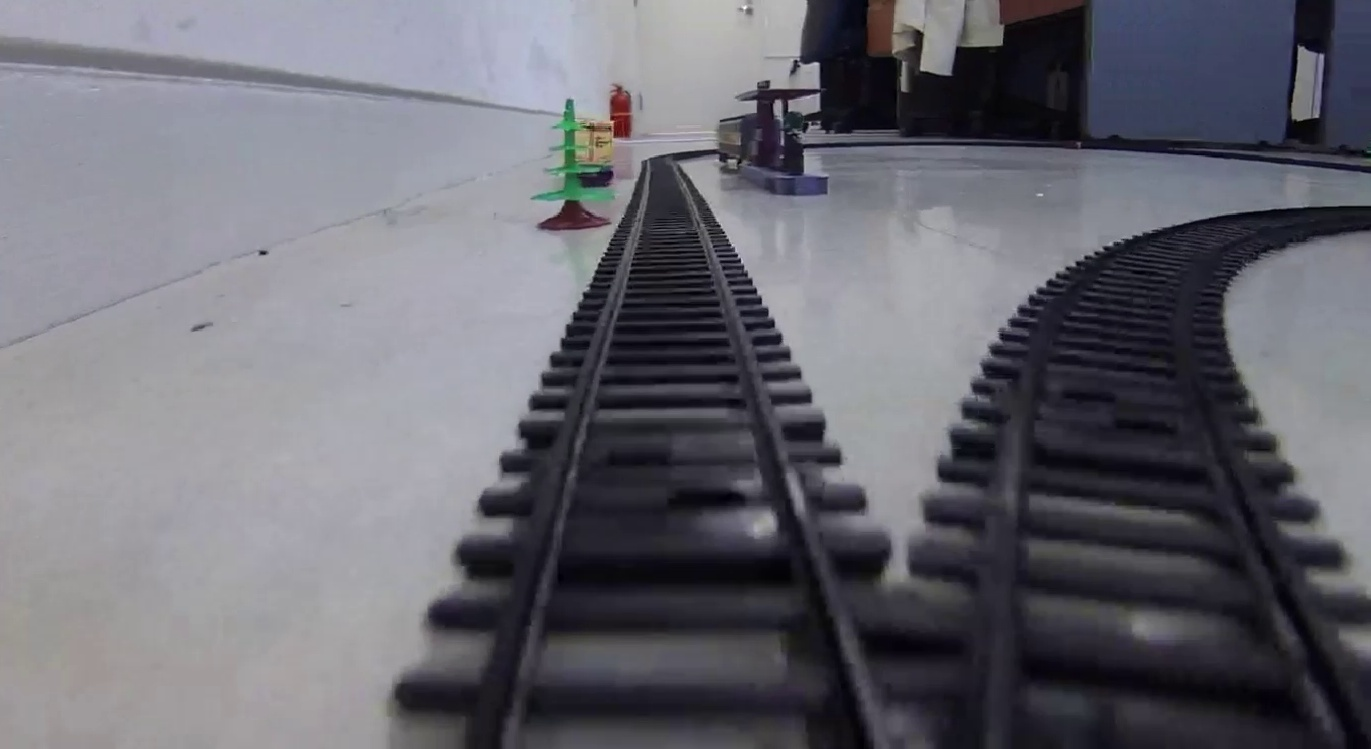tree: (528, 97, 611, 229)
